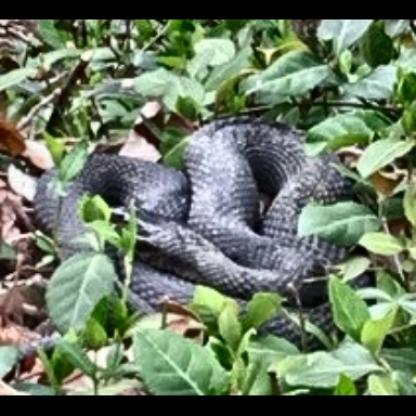Snake: (13, 108, 414, 317)
